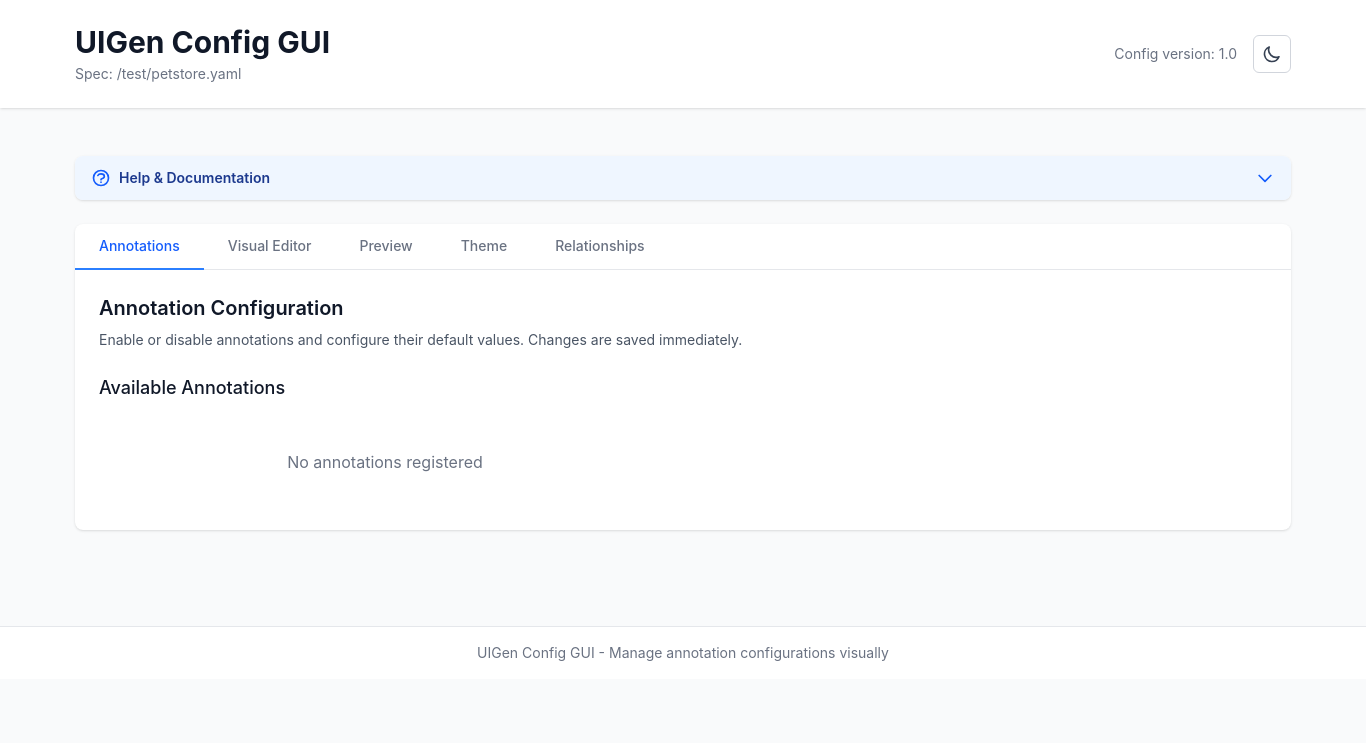
Test: Config GUI End-to-End › Help Panel › should toggle help panel open/closed
This screenshot has width=1366, height=743.
// Click to open
Click the button with test id "help-panel-toggle" at point(195, 178), box [75,156,1291,200]
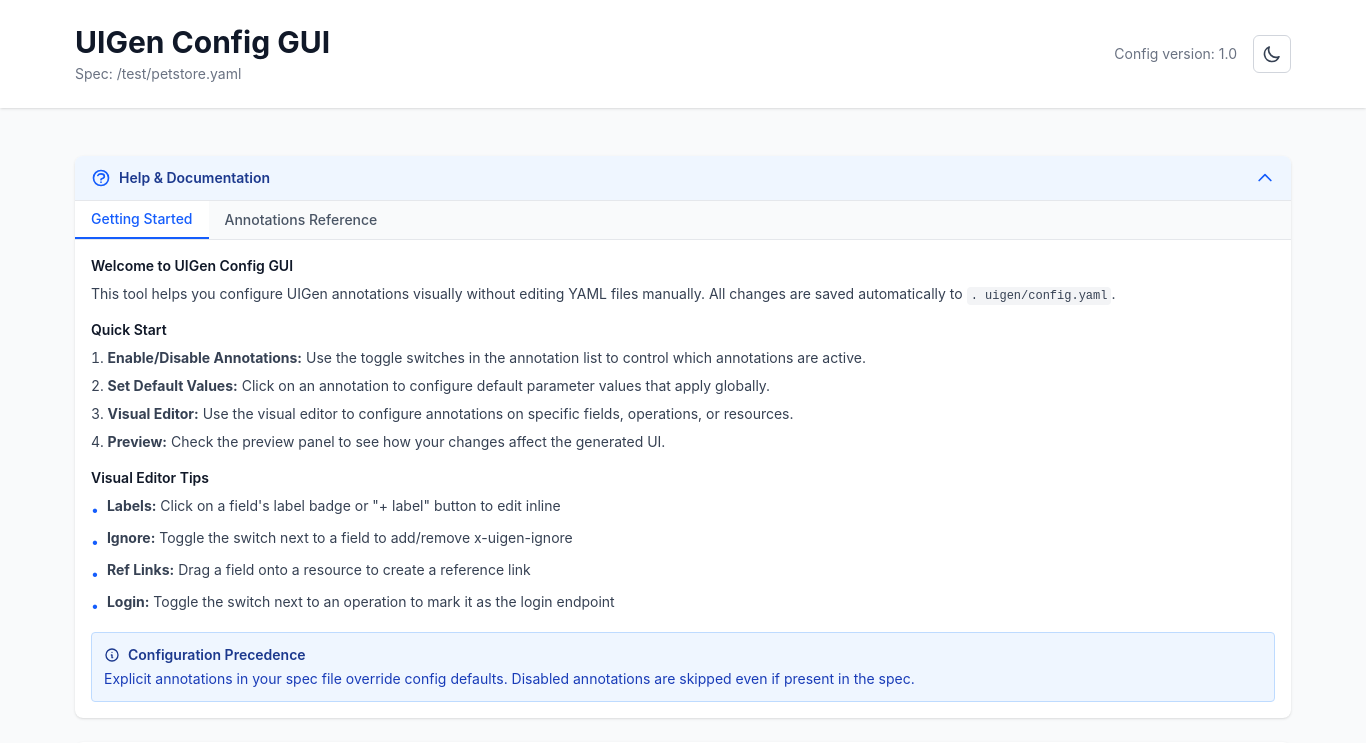
Expected: the button with test id "help-panel-toggle" is expanded
// Click to close
Click the button with test id "help-panel-toggle" at point(195, 178), box [75,156,1291,200]
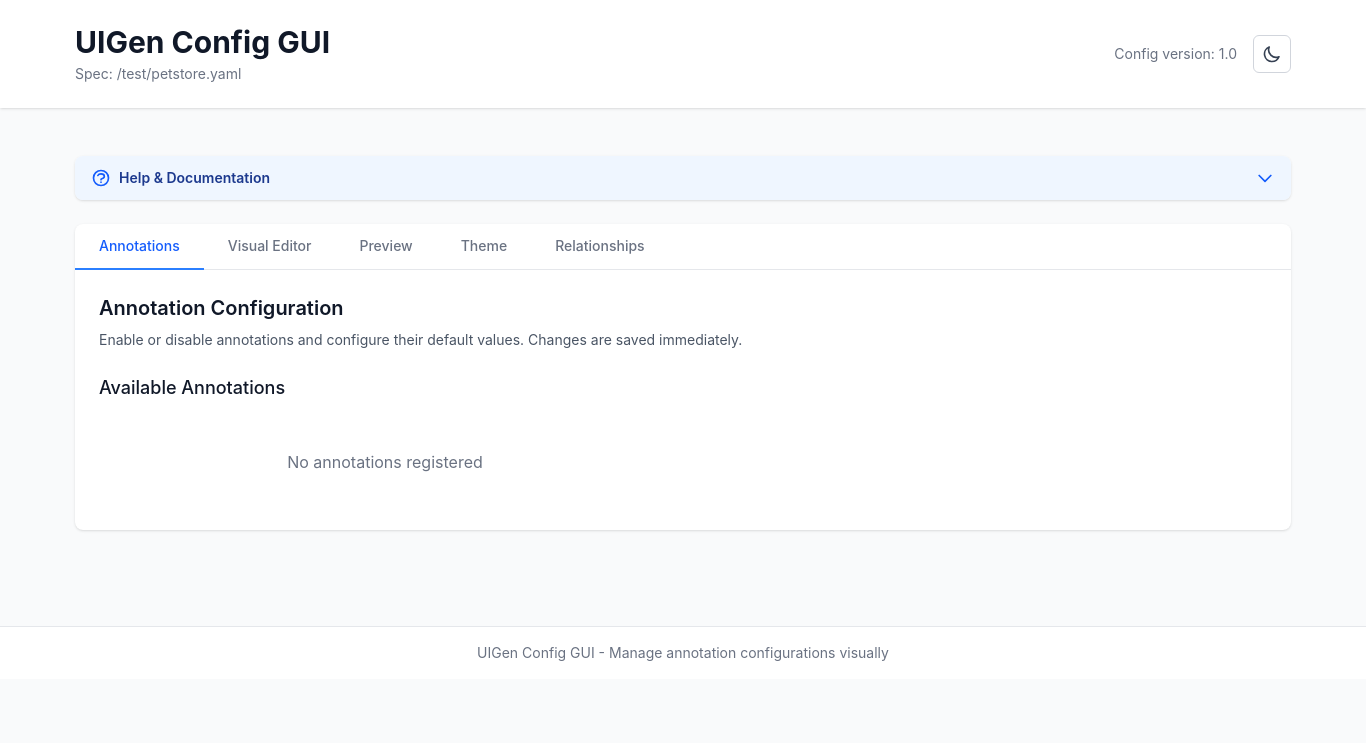
Expected: the button with test id "help-panel-toggle" is collapsed, [75,156,1291,200]
